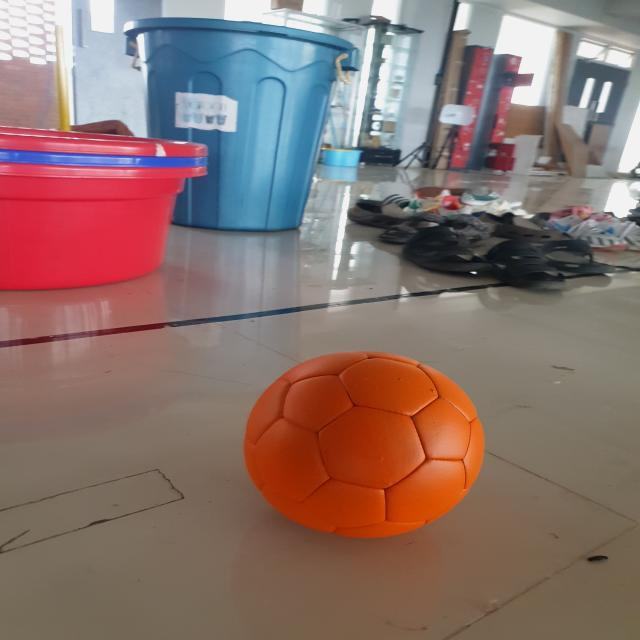bola: (238, 346, 489, 544)
